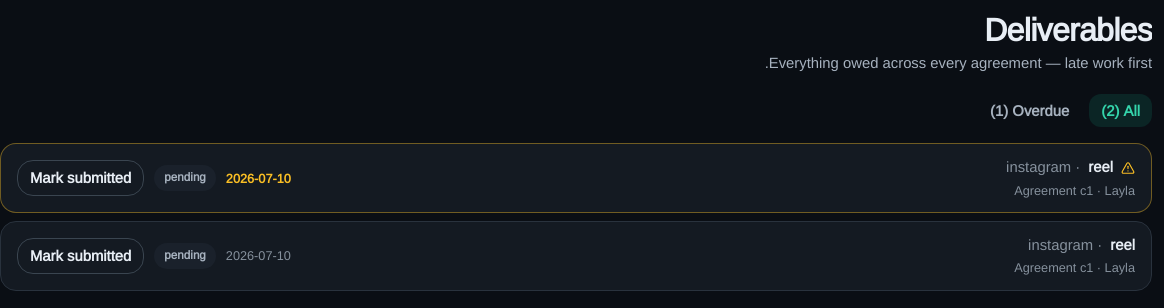
DeliverablesPage › filters to just the late work
This screenshot has width=1164, height=308.
Click the button with test id "filter-overdue".
click(1030, 111)  # box [978, 94, 1081, 127]
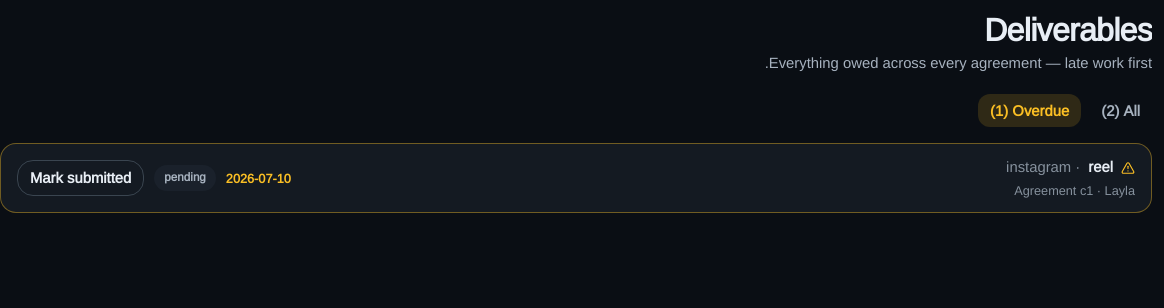
Expected: the list item with test id "deliverable-late" is shown, [0, 143, 1152, 213]
Expected: the list item with test id "deliverable-ontime" is gone
